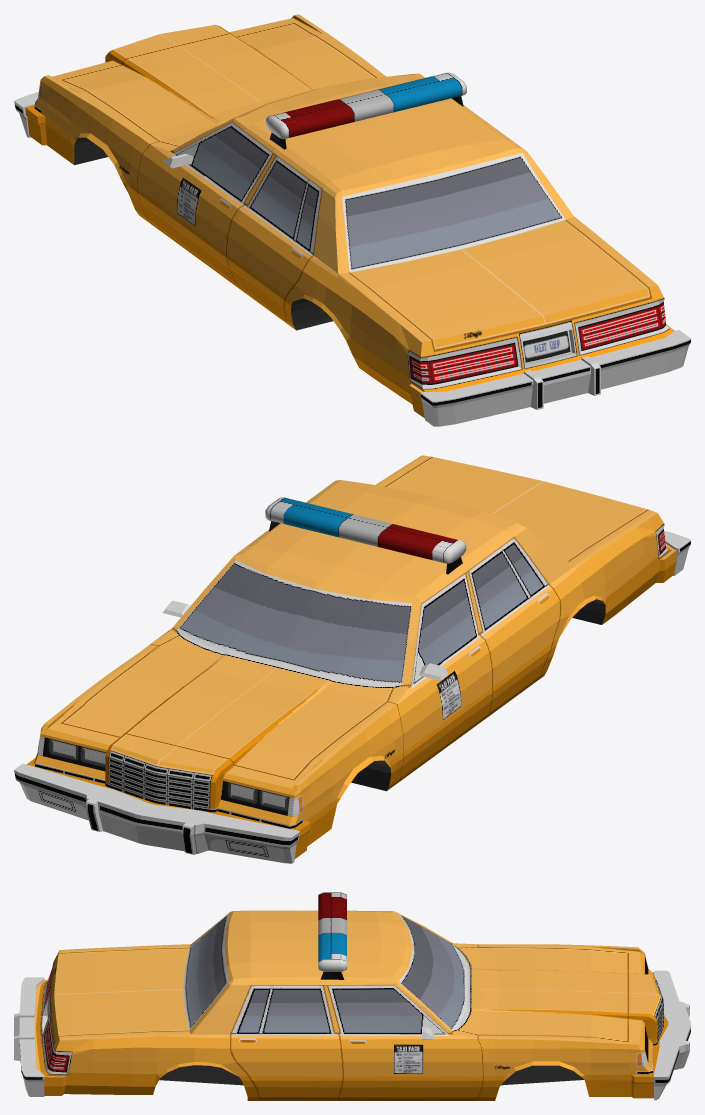
File: 81stregispolice.fbx
3 renders of one model, top to bottom at view 1: azimuth 30°, elevation 25°; view 2: azimuth 150°, elevation 25°; view 3: azimuth 270°, elevation 25°, orthographic. The views are drawn at different scales.
Visible parts, largest first — view 1: 81stregis; view 2: 81stregis; view 3: 81stregis.
Part boxes in pixels (<box>): 81stregis: <box>14,14,690,426</box>; 81stregis: <box>14,455,690,863</box>; 81stregis: <box>14,892,690,1100</box>.
Size of the model in its own units: 2.35 by 1.31 by 6.31.
